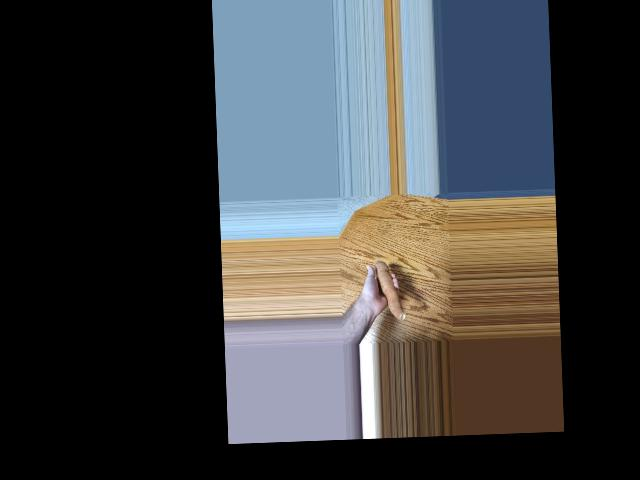sweet_potato: (374, 259, 405, 322)
